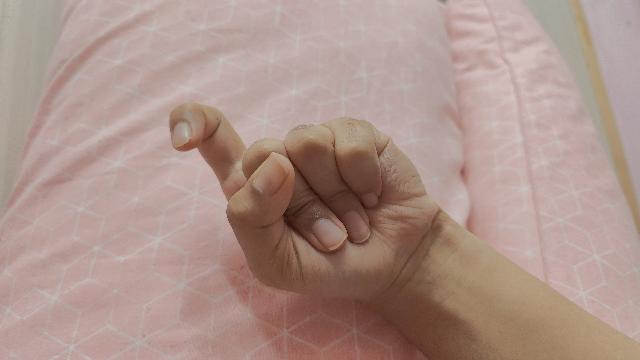tamrachud: (169, 104, 640, 360)
